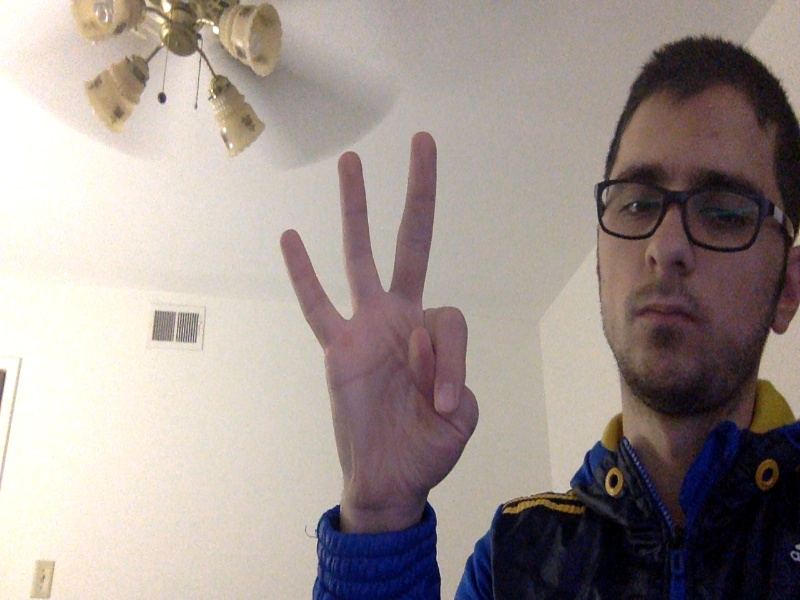3-hand: (279, 132, 476, 516)
